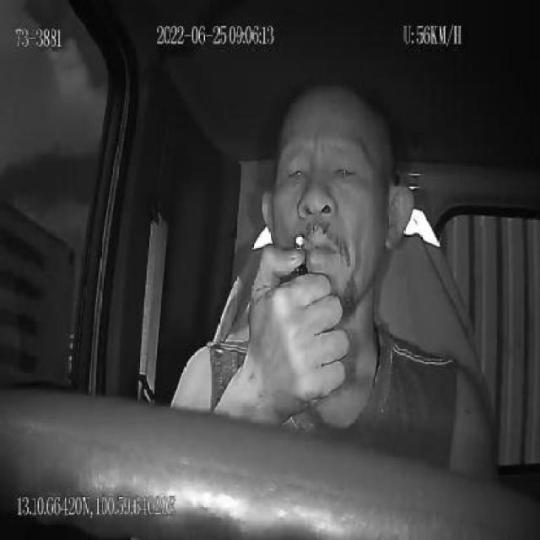smoking: (295, 230, 319, 254)
